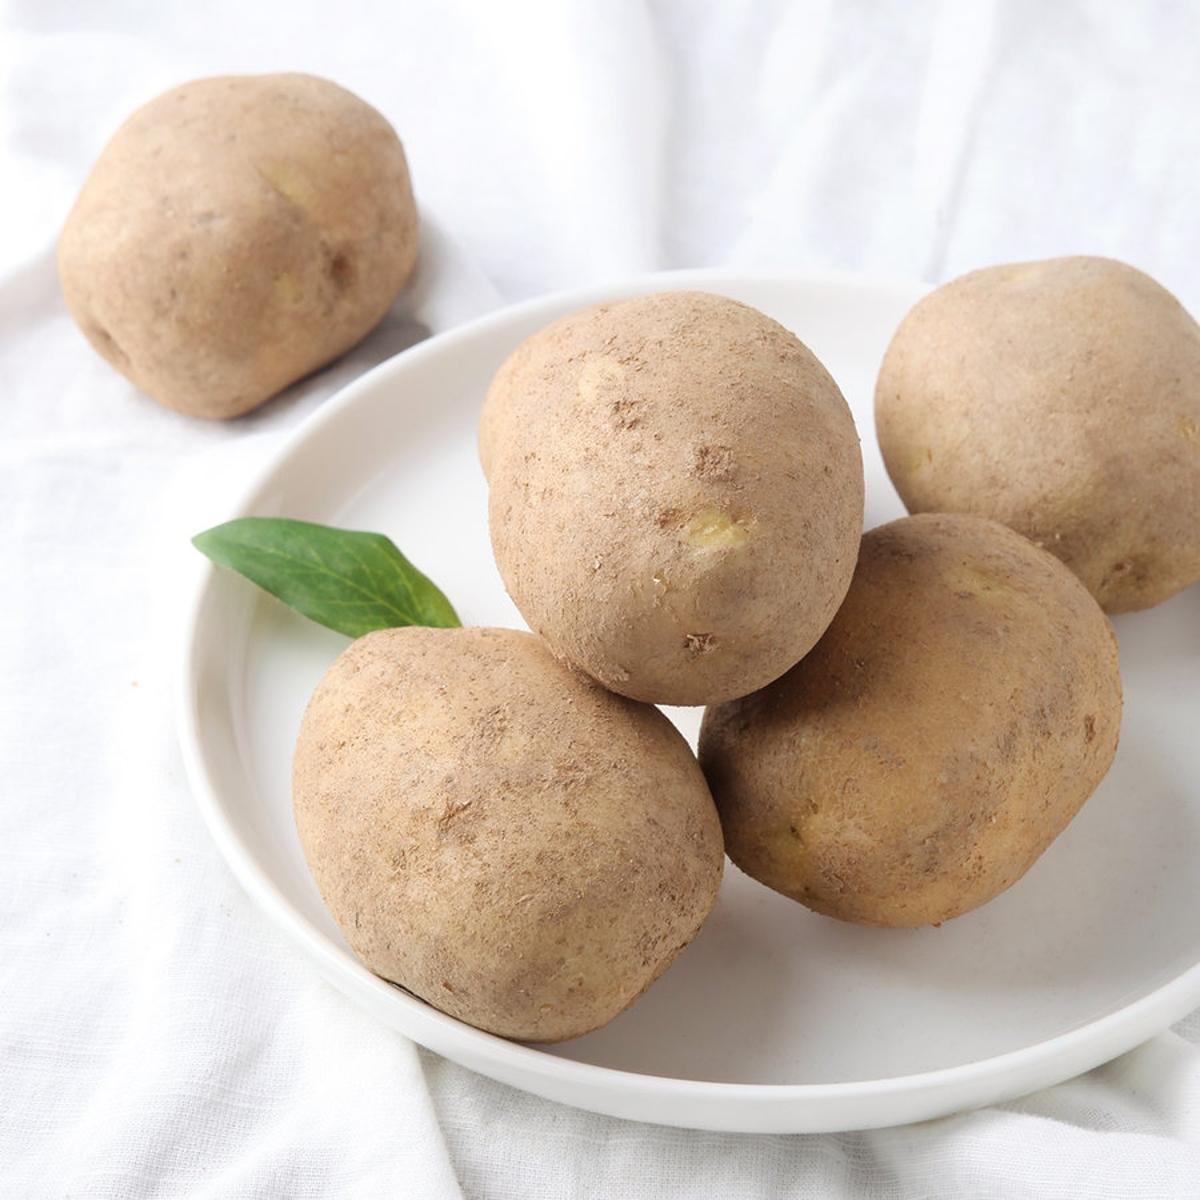potato: (523, 832, 1200, 1200), (855, 510, 1200, 1200), (907, 486, 1200, 1118)
